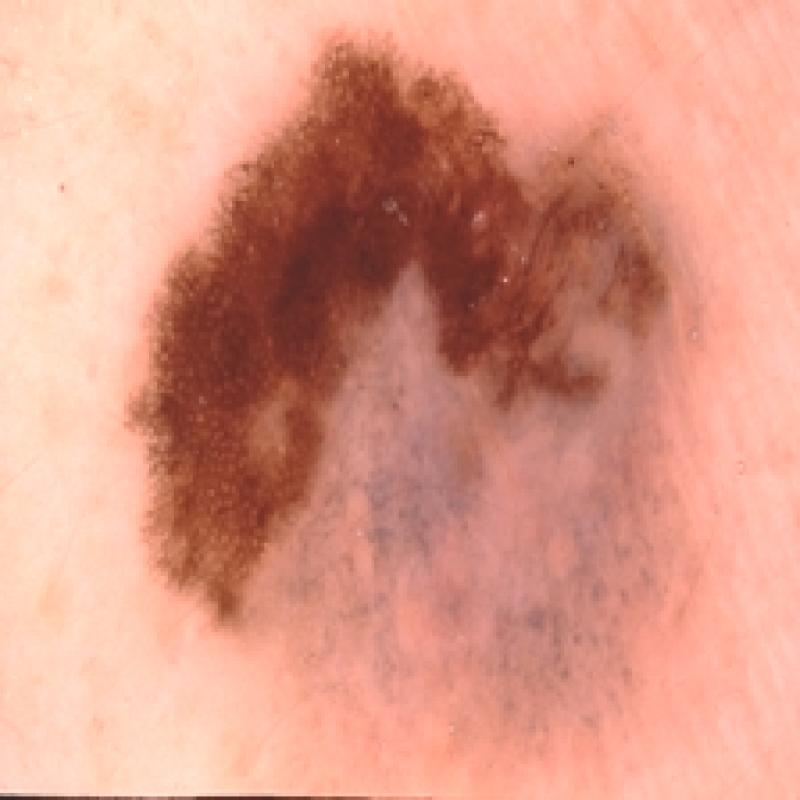malignant: (119, 23, 704, 752)
